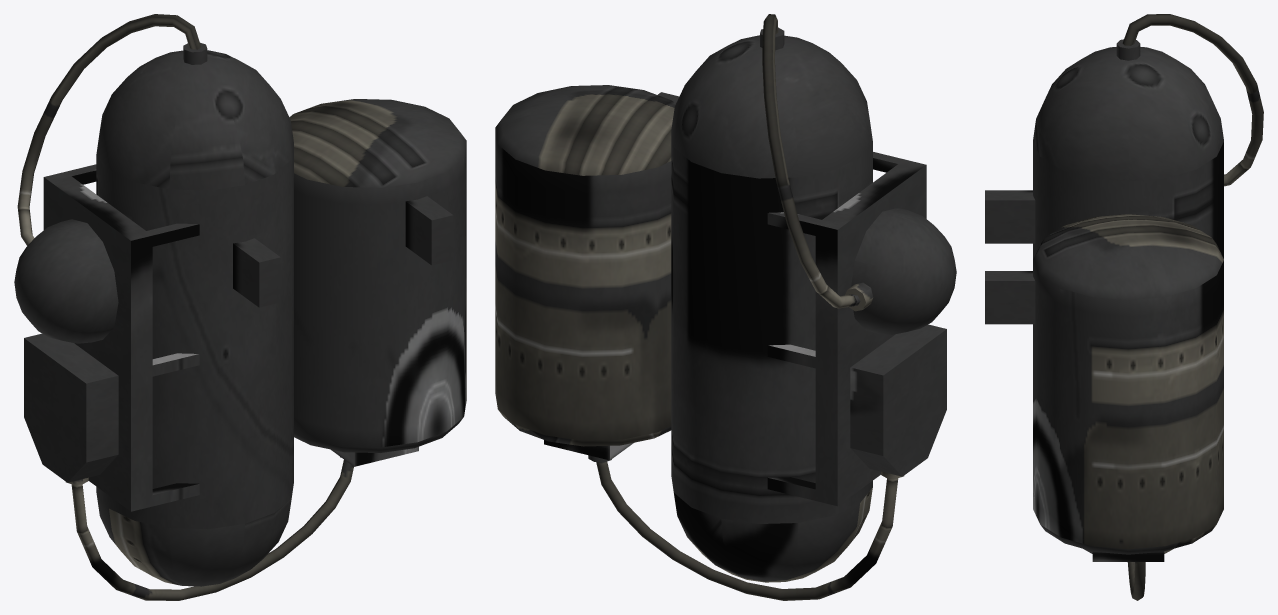
Rendered from fuel_cell.fbx.
3 views of the same model, side by side, from view 1: azimuth 30°, elevation 25°; view 2: azimuth 150°, elevation 25°; view 3: azimuth 270°, elevation 25° (orthographic). The views are drawn at different scales.
Visible parts, largest first — view 1: mesh; view 2: mesh; view 3: mesh.
Boxes of the visible parts, x1,y1,x2,y2 form: mesh: (14, 14, 466, 600); mesh: (495, 14, 956, 600); mesh: (985, 14, 1263, 600).
Size of the model in its own units: 0.5 by 0.6408 by 0.2916.
